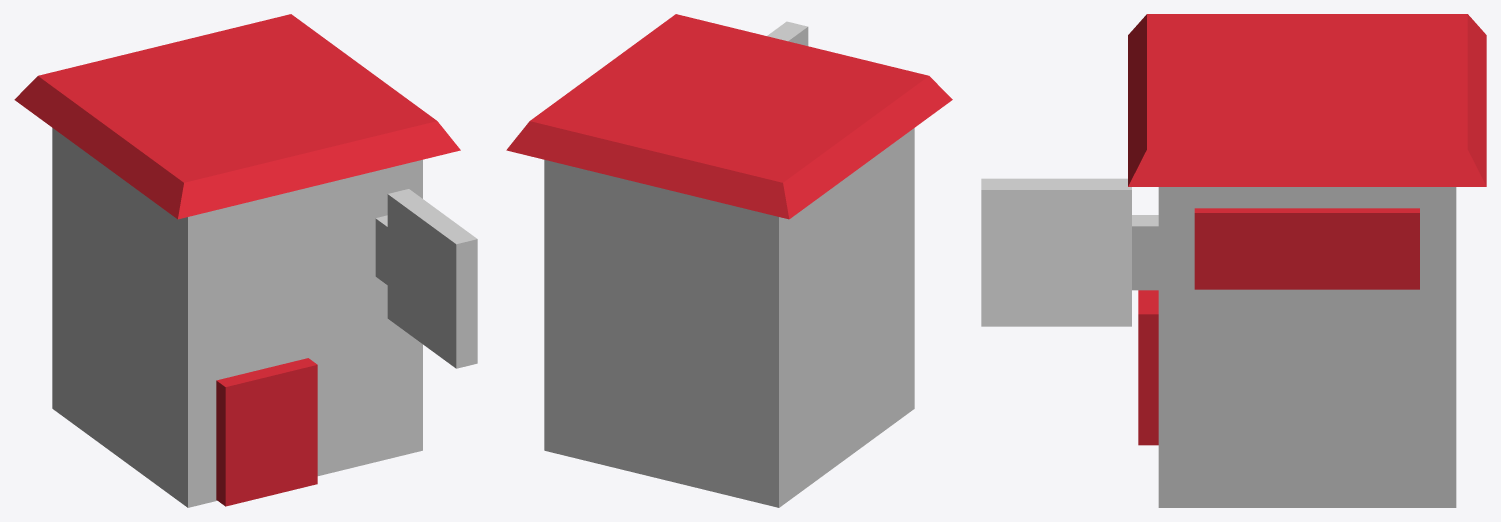
File: isometric_test_booth.gltf
The picture shows the model from 3 angles, left to right: view 1: azimuth 30°, elevation 25°; view 2: azimuth 150°, elevation 25°; view 3: azimuth 270°, elevation 25°; orthographic projection. The views are drawn at different scales.
Parts seen in each view (by area): view 1: booth; view 2: booth; view 3: booth.
Part boxes in pixels (box(x1,y1,x2,y2)): booth: box(14, 14, 477, 507); booth: box(506, 14, 952, 507); booth: box(981, 14, 1486, 507).
Bounding box in the file's own units: 0.7342 × 0.8205 × 1.03.
